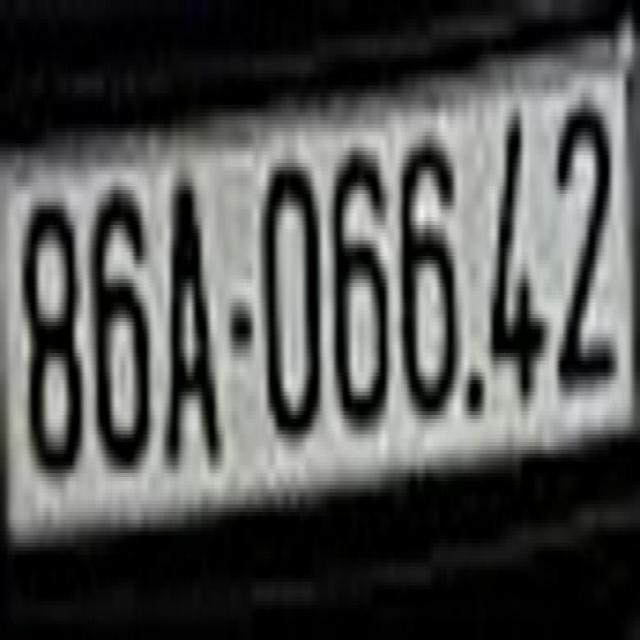0: (261, 155, 325, 454)
2: (556, 89, 614, 396)
4: (496, 86, 544, 400)
6: (396, 108, 456, 426), (96, 167, 151, 492), (331, 136, 389, 438)
8: (24, 175, 92, 512)
A: (161, 159, 225, 477)
